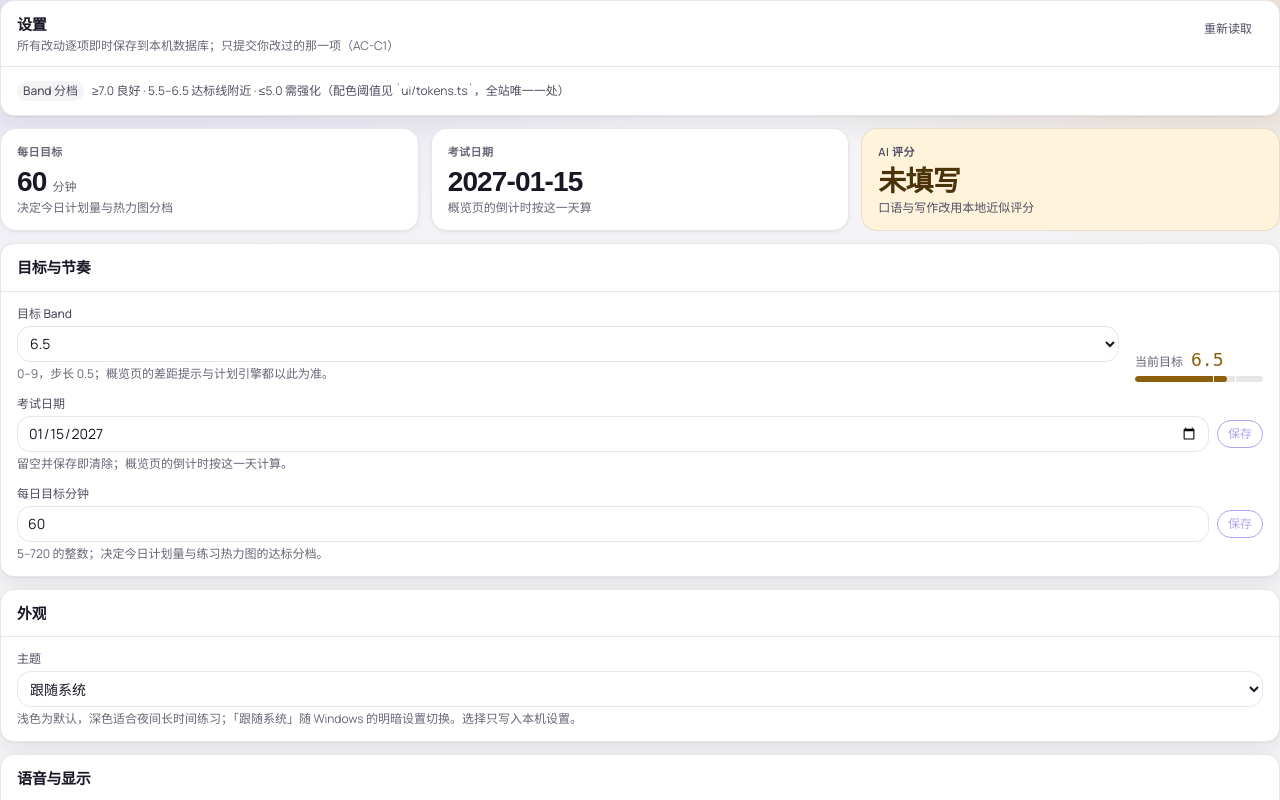
it: 磁贴条（契约 §8.3） › 保存考试日期后磁贴跟着后端回读值走，但条上绝不出现字段级的保存状态文案
Expected: the number field with id "setting-daily-goal" holds "60", x1=17 y1=506 x2=1209 y2=542
Expected: the dropdown labelled "目标 Band" shows "6.5", x1=17 y1=326 x2=1119 y2=362
Type "2026-12-01" into the date field with id "setting-exam-date" at point(613, 434), box x1=17 y1=416 x2=1209 y2=452
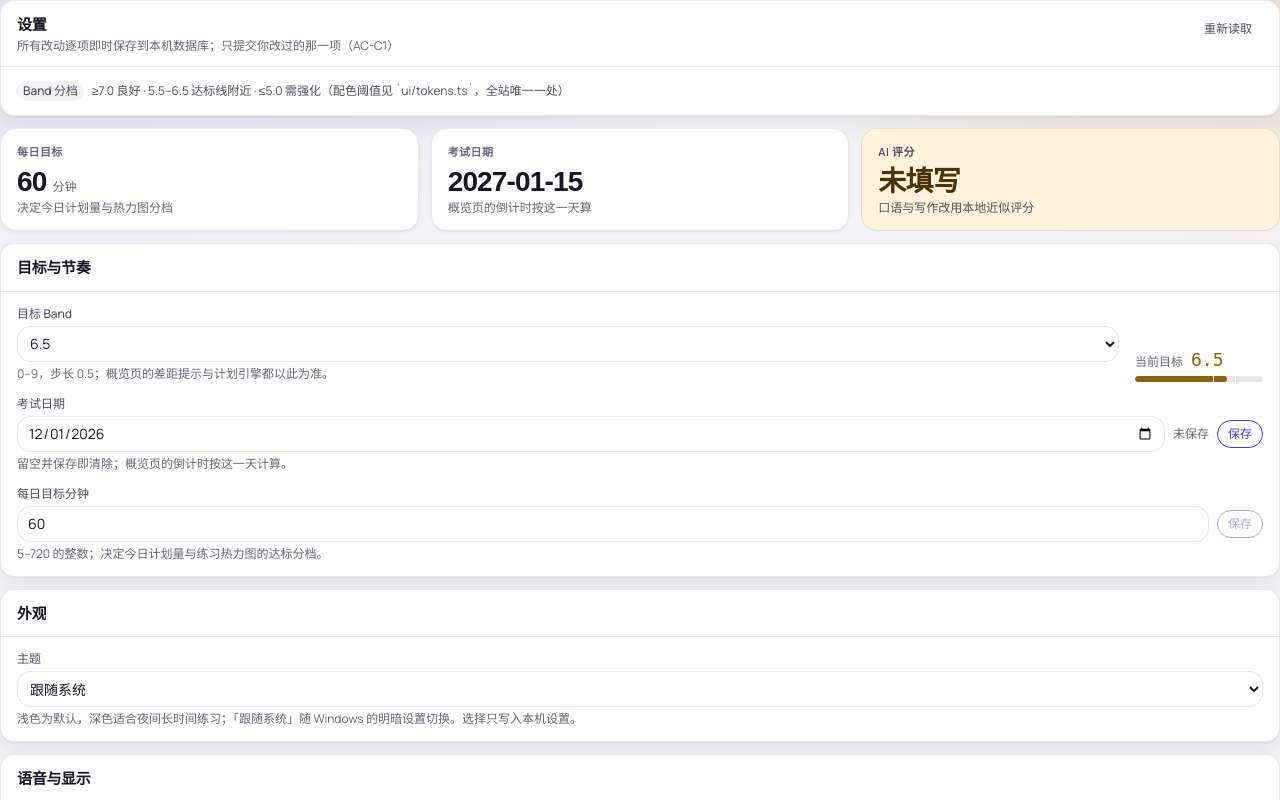
Click the button "保存" next to "未保存" at point(1240, 434), box x1=1217 y1=420 x2=1263 y2=448
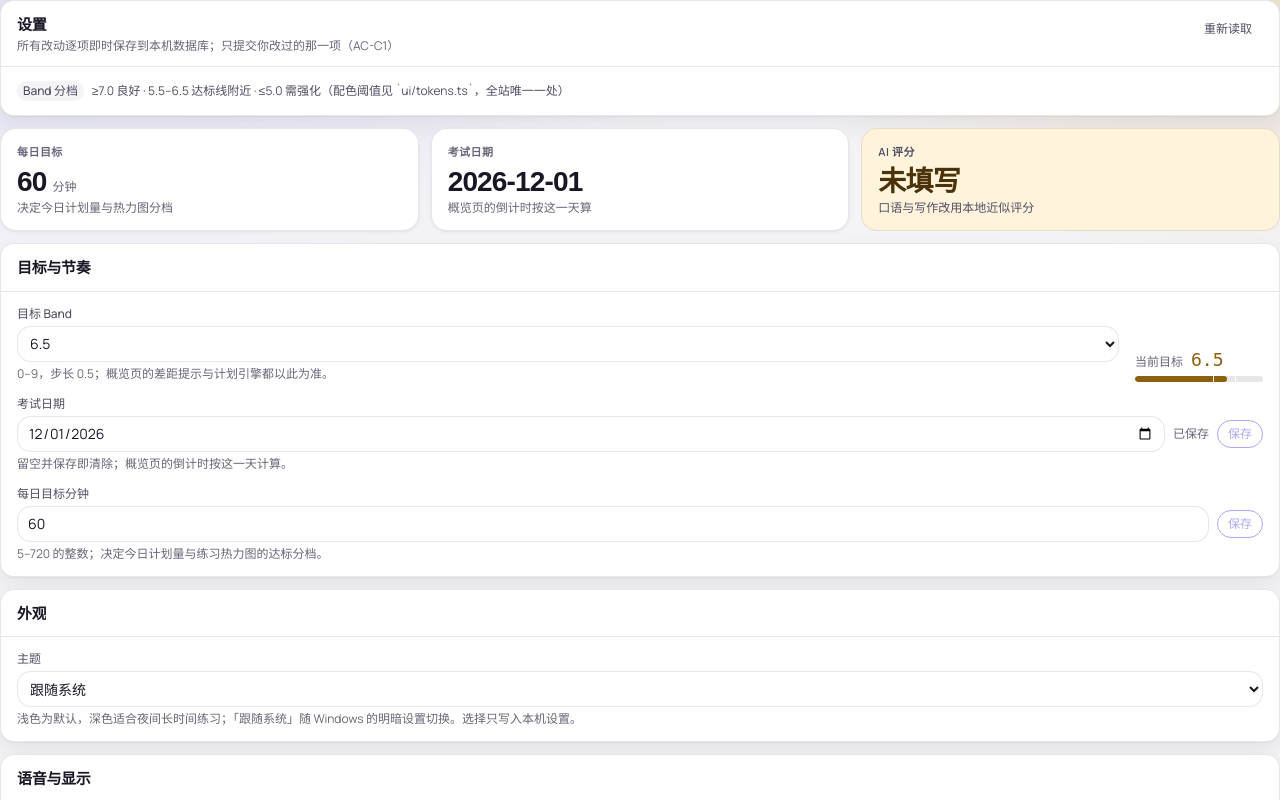
Now the text "2026-12-01" is shown, box x1=448 y1=168 x2=582 y2=196
Now the text labelled "设置关键指标" no longer shows "未保存"
